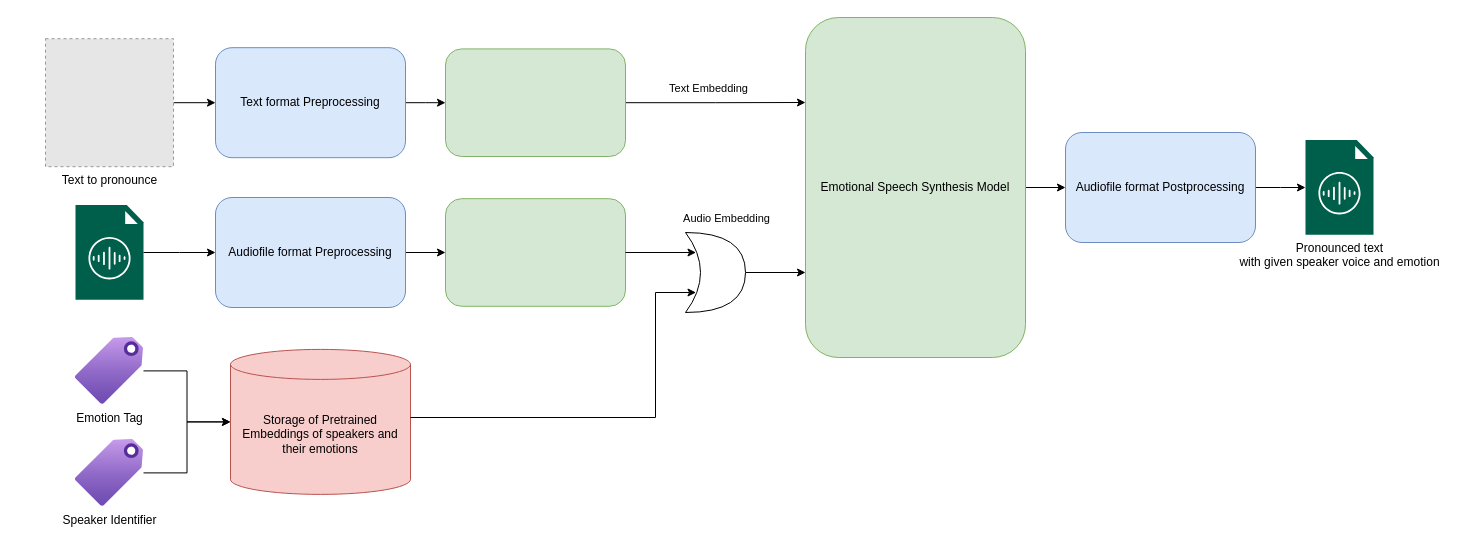
Image size: 1457x545. Some labels were removed from this diagram. Grey dashed boxes stand in for pictures. The centre of each missing label's shape, as x and y in pixels:
Bert Text Embedding Model: point 535,102
OR: point 715,272
Pretrained Audio Embedding Model: point 535,252
Reference of speaker and emotion: point 109,252
